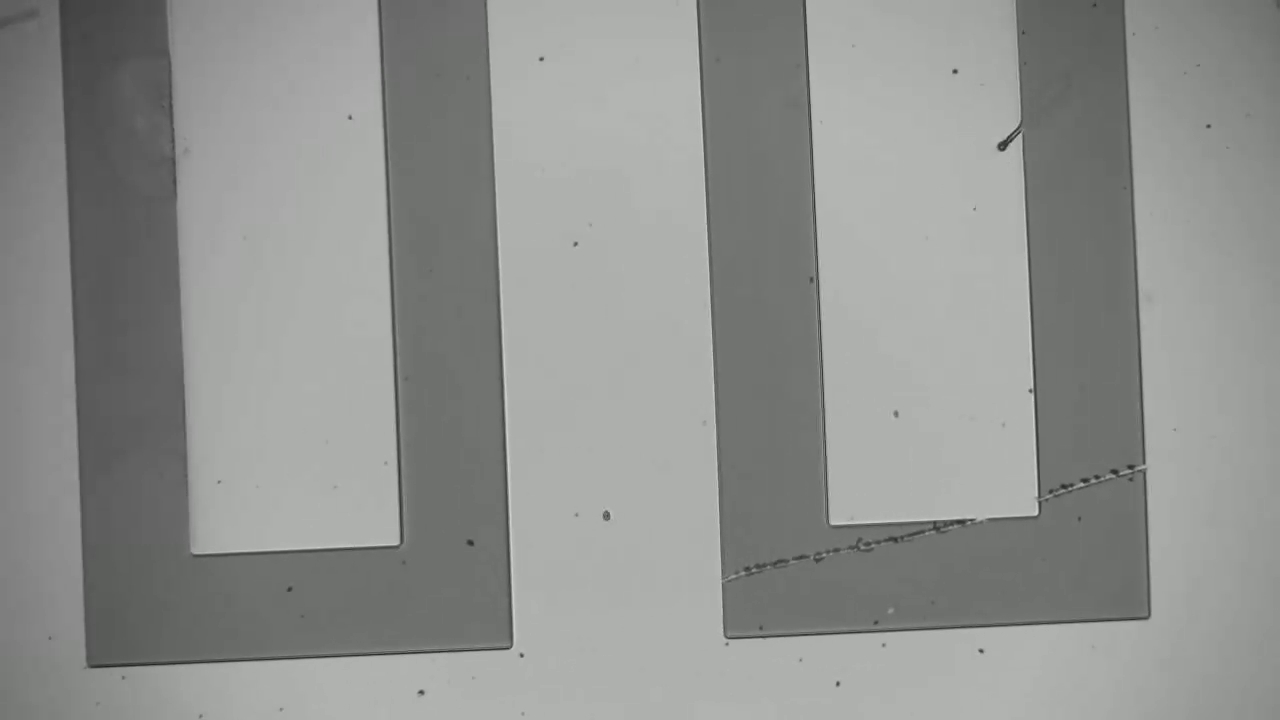scratch: (733, 458, 1144, 581)
